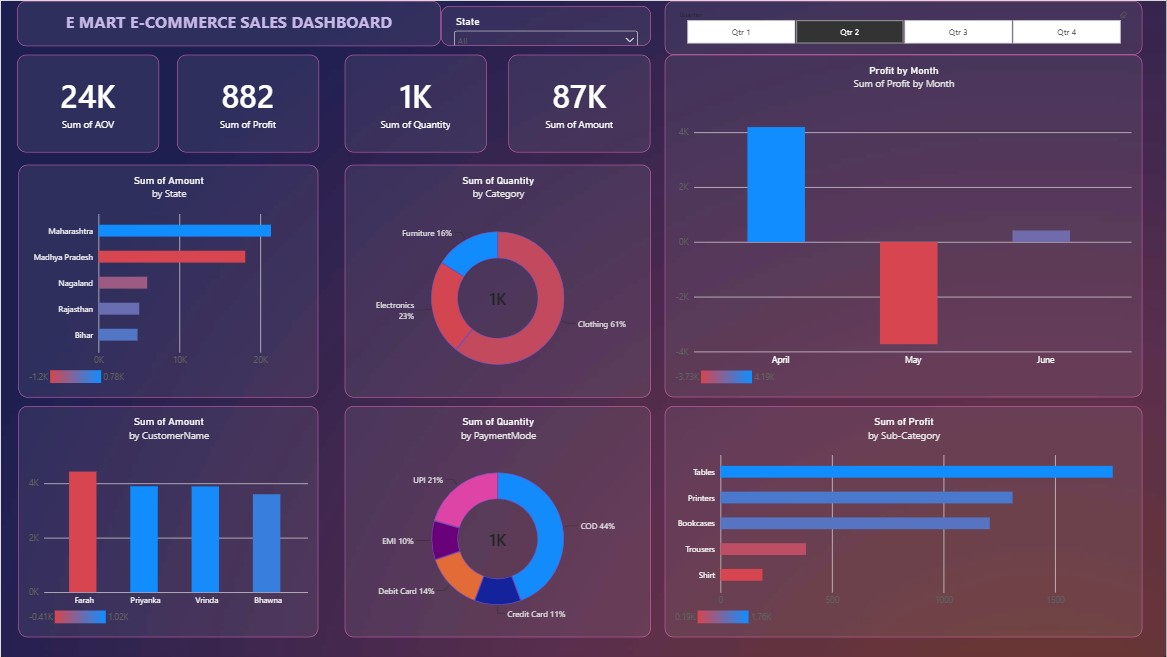

The page's visual inventory and layout, read from the dashboard file:
{"tool":"powerbi","page":{"name":"Page 1","canvas":[1920,1080],"ordinal":0},"visuals":[{"type":"textbox","box":[26.8,0,697.8,74.1],"z":0},{"type":"columnChart","title":"Profit by Month","fields":{"Category":["Orders.Order Date.Variation.Date Hierarchy.Month"],"Y":["Sum(Details.Profit)"]},"box":[1093,88.5,786.3,564],"z":1000},{"type":"barChart","fields":{"Category":["Details.Sub-Category"],"Y":["Sum(Details.Profit)"]},"box":[1093,666.9,786.3,380.8],"z":2000},{"type":"donutChart","fields":{"Category":["Details.Category"],"Y":["Sum(Details.Quantity)"]},"box":[566,269.6,504.3,382.8],"z":3000},{"type":"donutChart","fields":{"Series":["Details.PaymentMode"],"Y":["Sum(Details.Quantity)"]},"box":[566,666.9,504.3,380.8],"z":4000},{"type":"cardVisual","fields":{"Data":["Sum(Details.Amount)"]},"box":[835.7,89.3,233.9,160.7],"z":5000},{"type":"cardVisual","fields":{"Data":["Sum(Details.Quantity)"]},"box":[566,88.5,233.9,160.7],"z":6000},{"type":"cardVisual","fields":{"Data":["Sum(Details.Profit)"]},"box":[290.2,88.5,233.9,160.7],"z":7000},{"type":"cardVisual","fields":{"Data":["Sum(Details.AOV)"]},"box":[26.8,89.3,233.9,160.7],"z":8000},{"type":"barChart","fields":{"Category":["Orders.State"],"Y":["Sum(Details.Amount)"]},"box":[28.8,269.6,494,382.8],"z":8001},{"type":"columnChart","fields":{"Category":["Orders.CustomerName"],"Y":["Sum(Details.Amount)"]},"box":[28.8,666.9,494,380.8],"z":8002},{"type":"slicer","fields":{"Values":["Orders.Order Date.Variation.Date Hierarchy.Quarter"]},"box":[1093,0,786.3,88.5],"z":8003},{"type":"slicer","fields":{"Values":["Orders.State"]},"box":[724.5,8.2,345.8,65.9],"z":8004}]}

Visuals, with their boxes in screenshot pixels (x1, y1, x2, y2), scaled from the page's 1920x1080 canvas onto the 1167x657 screenshot:
textbox: locate(16, 0, 440, 45)
"Profit by Month" columnChart: locate(664, 54, 1142, 397)
barChart - Details.Sub-Category x Sum(Details.Profit): locate(664, 406, 1142, 637)
donutChart - Details.Category x Sum(Details.Quantity): locate(344, 164, 651, 397)
donutChart - Details.PaymentMode x Sum(Details.Quantity): locate(344, 406, 651, 637)
cardVisual - Sum(Details.Amount): locate(508, 54, 650, 152)
cardVisual - Sum(Details.Quantity): locate(344, 54, 486, 152)
cardVisual - Sum(Details.Profit): locate(176, 54, 319, 152)
cardVisual - Sum(Details.AOV): locate(16, 54, 158, 152)
barChart - Orders.State x Sum(Details.Amount): locate(18, 164, 318, 397)
columnChart - Orders.CustomerName x Sum(Details.Amount): locate(18, 406, 318, 637)
slicer - Orders.Order Date.Variation.Date Hierarchy.Quarter: locate(664, 0, 1142, 54)
slicer - Orders.State: locate(440, 5, 651, 45)
